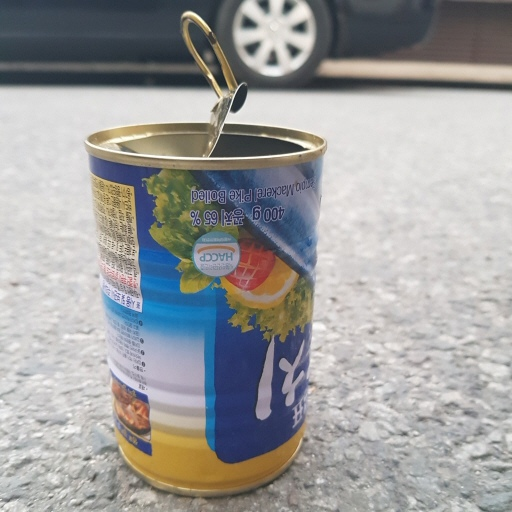Metal_1: (85, 10, 328, 493)
